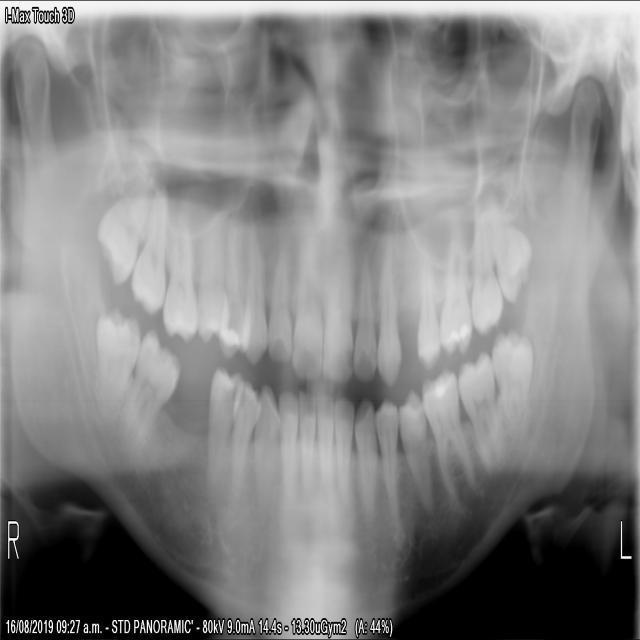LCD: (350, 392, 378, 530)
LCU: (372, 243, 402, 393)
LID: (329, 392, 354, 508), (311, 384, 334, 503)
LIU: (320, 221, 354, 390), (350, 248, 377, 386)
LMD: (416, 361, 483, 518), (453, 343, 509, 486), (487, 321, 535, 452)
LMU: (483, 191, 533, 312), (435, 215, 473, 361), (468, 192, 505, 340)
LPMD: (395, 375, 436, 523), (371, 390, 406, 552)
LPMU: (413, 256, 441, 369)
RCD: (247, 375, 281, 512)
RCU: (238, 219, 266, 369)
RID: (274, 379, 300, 513), (295, 386, 316, 506)
RIU: (287, 205, 323, 386), (262, 217, 292, 370)
RMD: (115, 322, 182, 462), (90, 302, 141, 422)
RMU: (90, 168, 153, 292), (159, 196, 199, 350), (128, 177, 170, 322)
RPMD: (202, 356, 243, 487), (226, 370, 263, 507)
RPMU: (191, 202, 230, 350), (217, 195, 251, 361)
